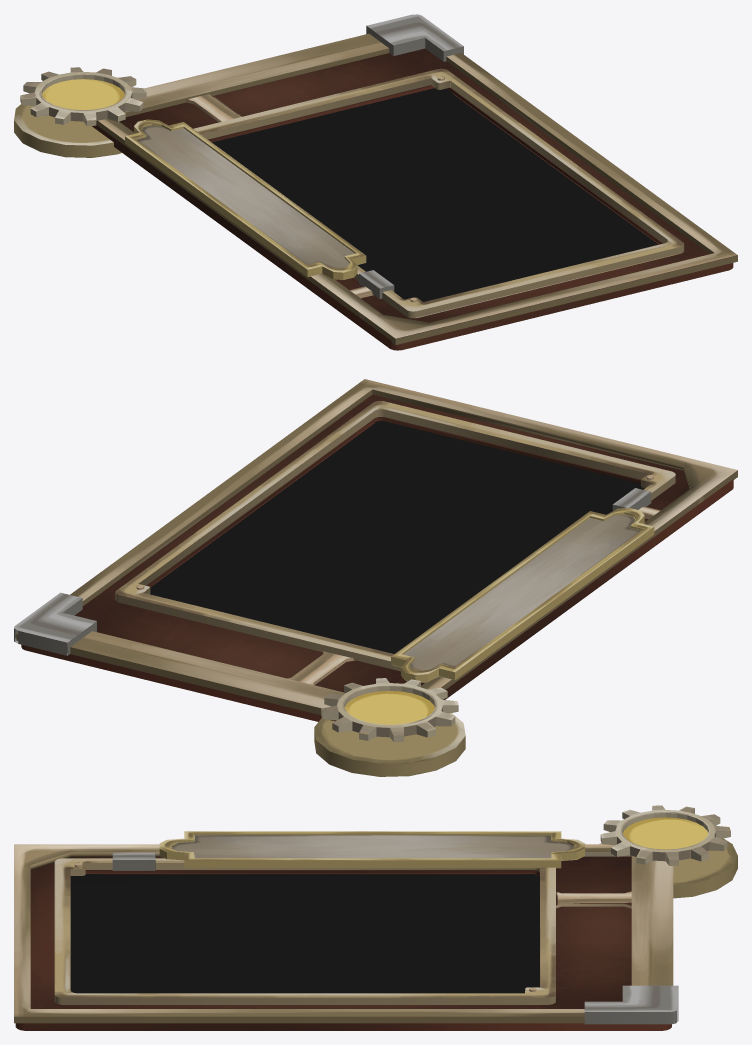
Rendered from small_card.FBX.
The picture shows the model from 3 angles, top to bottom: view 1: azimuth 30°, elevation 25°; view 2: azimuth 150°, elevation 25°; view 3: azimuth 270°, elevation 25°; orthographic projection. The views are drawn at different scales.
Parts seen in each view (by area): view 1: Box001, Box011, Box003, Box007, Cylinder007, Cylinder001, Object001, Box009, Box010; view 2: Box001, Box011, Box003, Box007, Cylinder007, Cylinder001, Object001, Box009; view 3: Box001, Box011, Box003, Box007, Cylinder007, Object001, Cylinder001, Box009, Box010.
Boxes of the visible parts, box(x1,y1,x2,y2) form: Box001: box(92, 48, 733, 350); Box011: box(96, 33, 737, 344); Box003: box(125, 119, 366, 279); Box007: box(193, 68, 684, 318); Cylinder007: box(20, 67, 146, 126); Cylinder001: box(14, 104, 121, 157); Object001: box(366, 14, 463, 61); Box009: box(186, 93, 241, 122); Box010: box(359, 270, 394, 299); Box001: box(21, 394, 733, 721); Box011: box(16, 379, 737, 714); Box003: box(391, 508, 654, 682); Box007: box(115, 401, 675, 671); Cylinder007: box(321, 678, 458, 742); Cylinder001: box(314, 713, 465, 776); Object001: box(14, 592, 96, 655); Box009: box(287, 651, 354, 685); Box001: box(15, 856, 671, 1030); Box011: box(14, 844, 673, 1023); Box003: box(159, 831, 585, 868); Box007: box(54, 858, 555, 1004); Cylinder007: box(600, 805, 730, 865); Object001: box(584, 985, 678, 1024); Cylinder001: box(599, 838, 737, 898); Box009: box(556, 891, 631, 908); Box010: box(112, 852, 155, 870).
Size of the model in its own units: 137 by 11.76 by 206.
Materials: 11 (11 with a texture image).
